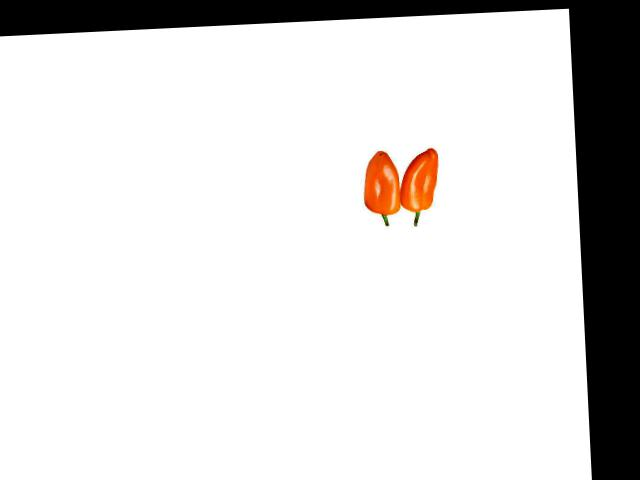bell_pepper: (353, 134, 403, 229)
